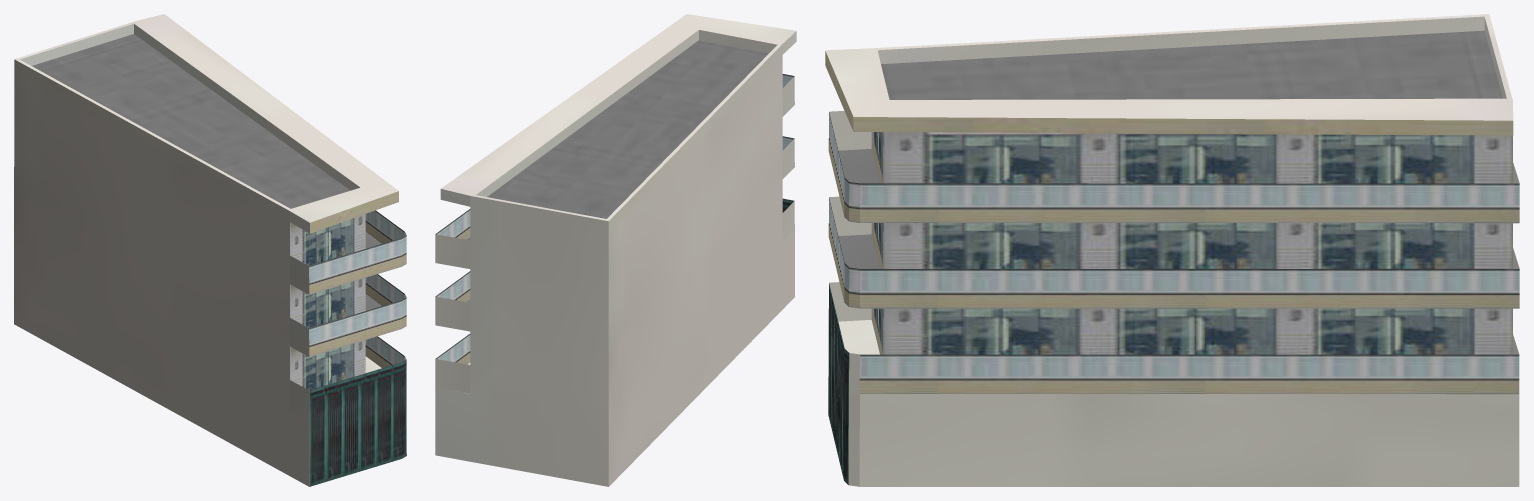
The picture shows the model from 3 angles, left to right: view 1: azimuth 30°, elevation 25°; view 2: azimuth 150°, elevation 25°; view 3: azimuth 270°, elevation 25°; orthographic projection. The views are drawn at different scales.
Visible parts, largest first — view 1: 5daffab75bb8830f98dcff2a.001; view 2: 5daffab75bb8830f98dcff2a.001; view 3: 5daffab75bb8830f98dcff2a.001.
Part boxes in pixels (bbox=[...]): 5daffab75bb8830f98dcff2a.001: bbox=[14, 14, 406, 486]; 5daffab75bb8830f98dcff2a.001: bbox=[435, 14, 796, 486]; 5daffab75bb8830f98dcff2a.001: bbox=[825, 14, 1519, 486].
Bounding box in the file's own units: 9.54 × 14.92 × 25.77.
1 material, 1 textured.
